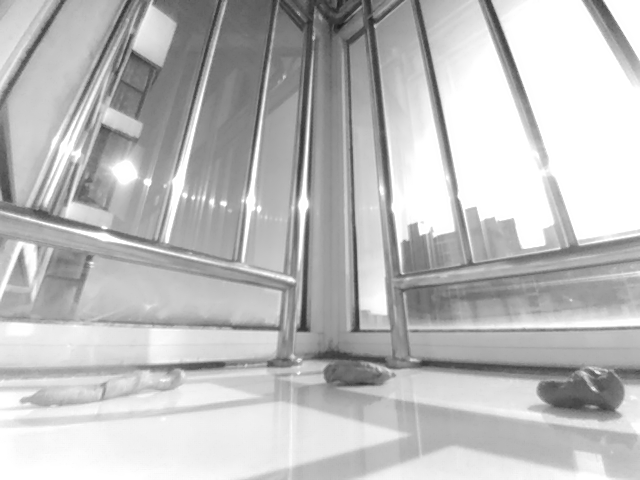pet feces: (19, 366, 189, 408), (536, 366, 626, 413), (324, 358, 397, 387)
